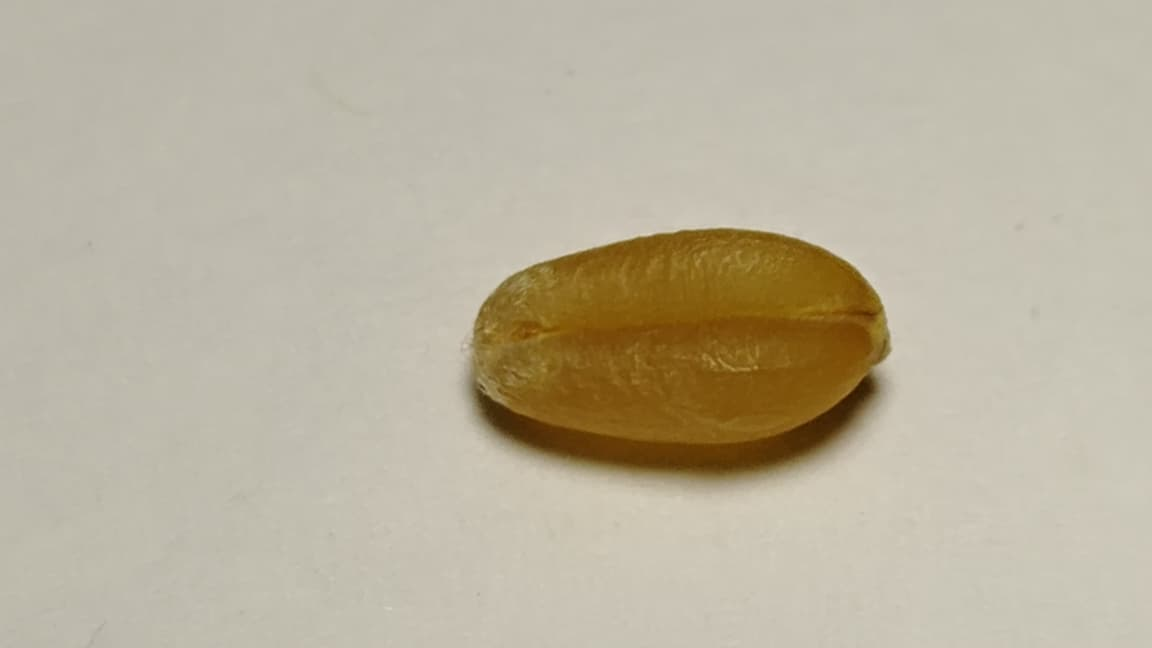healthy: (474, 229, 888, 442)
